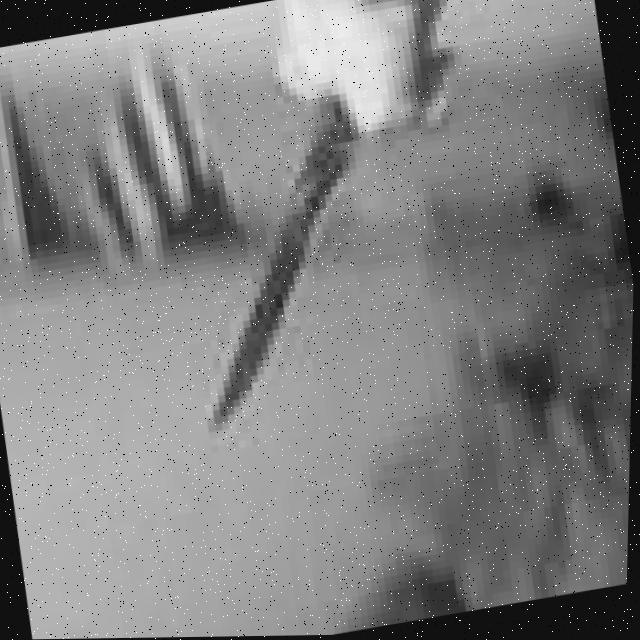knife: (161, 88, 403, 440)
